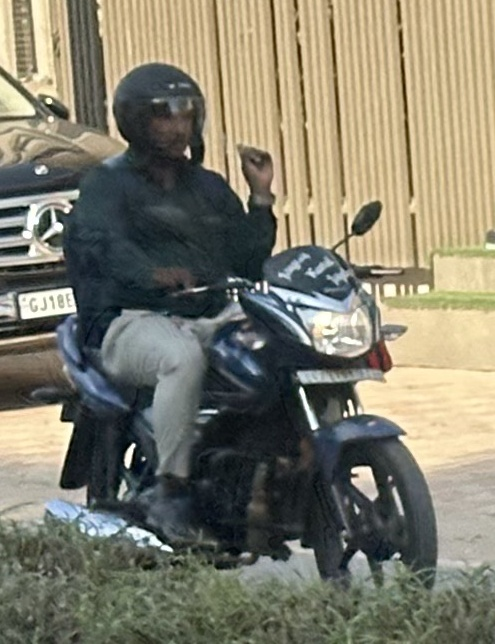BikeWithRider: (29, 54, 450, 626)
Helmet: (106, 56, 211, 171)
